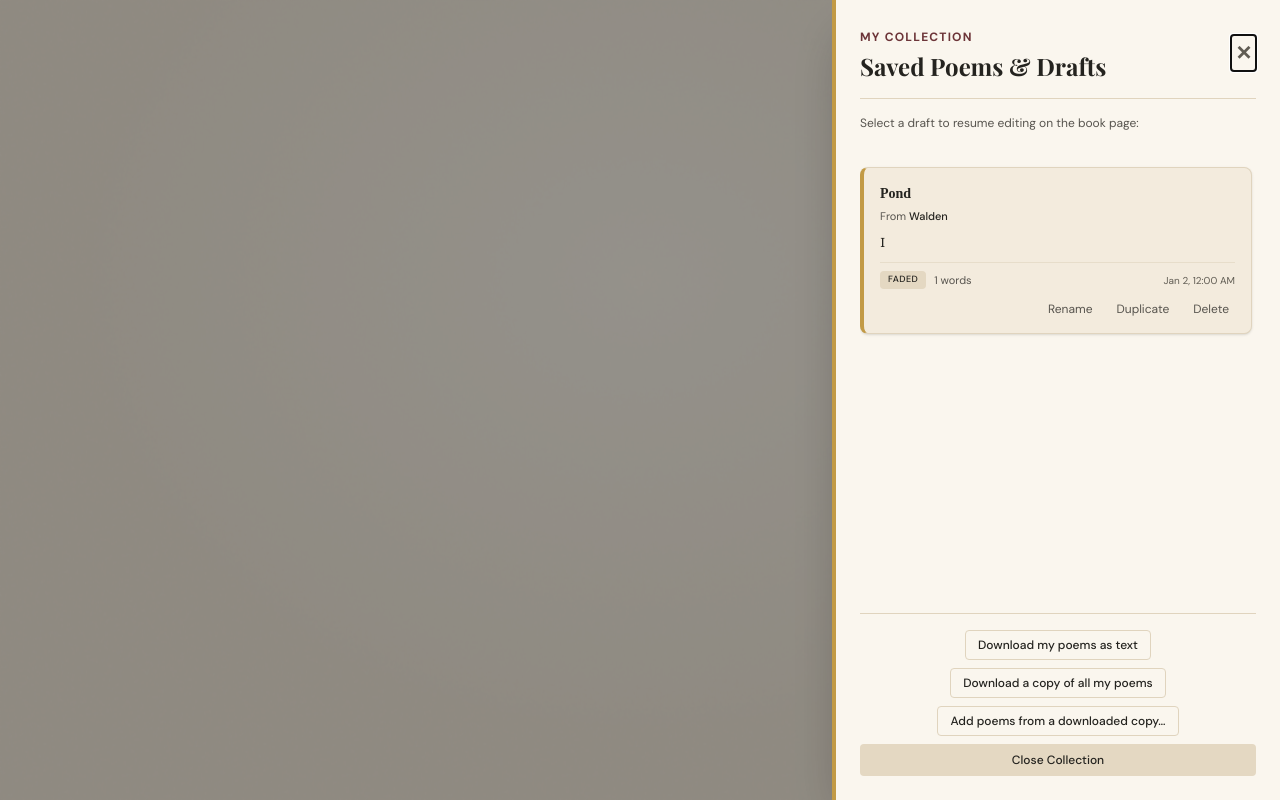
Test case: DraftsDrawer keyboard access › asks before deleting, in a dialog of its own, and does not open the draft
This screenshot has width=1280, height=800.
Click the button with aria-label "Delete draft Pond". click: (1211, 309)
box: [1183,297,1239,321]
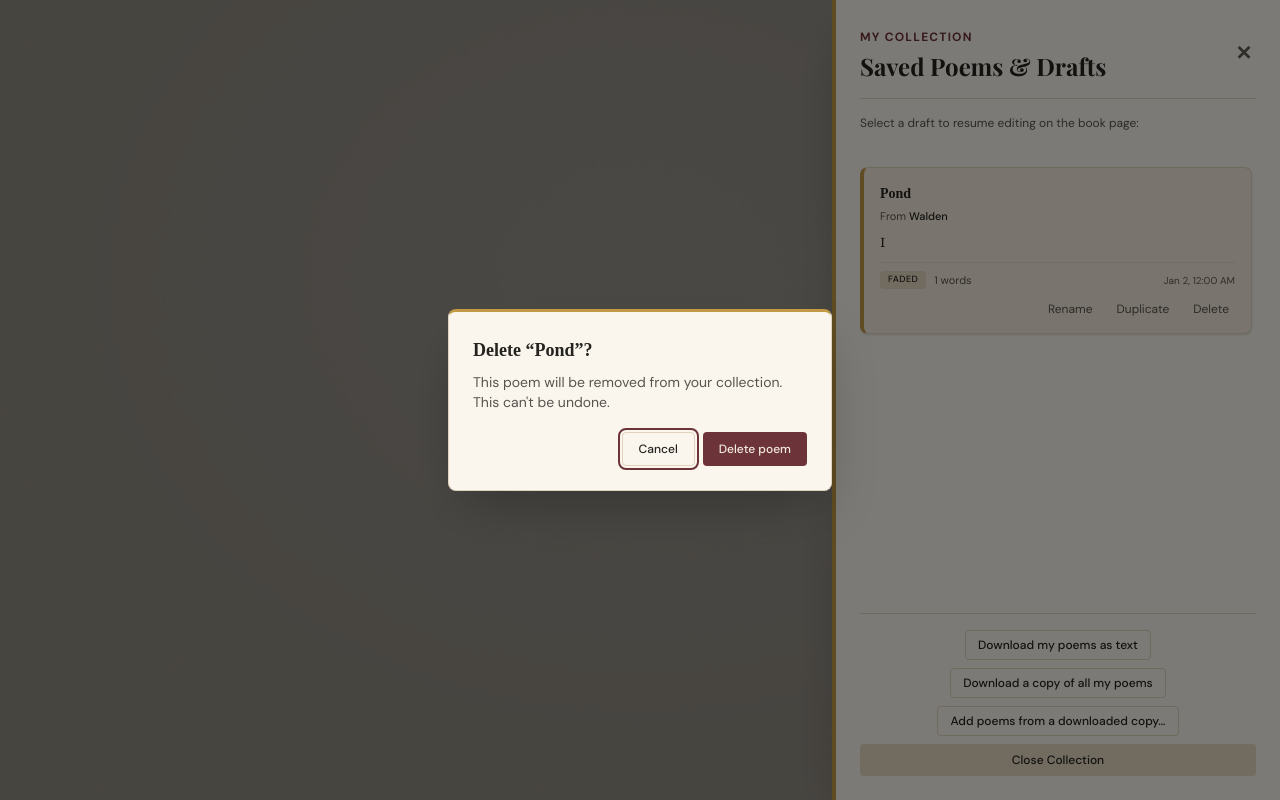
Expected: the number of list items is 1, [860,167,1252,334]
Result: the dialog that starts with "Delete “Pond”?" is shown at [448,309,832,491]
Result: the heading "Delete “Pond”?" is shown at [473,340,592,360]
